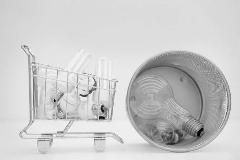lightbulb: (126, 50, 230, 152), (128, 74, 204, 144), (36, 50, 112, 120), (55, 92, 80, 118), (77, 100, 107, 120)
